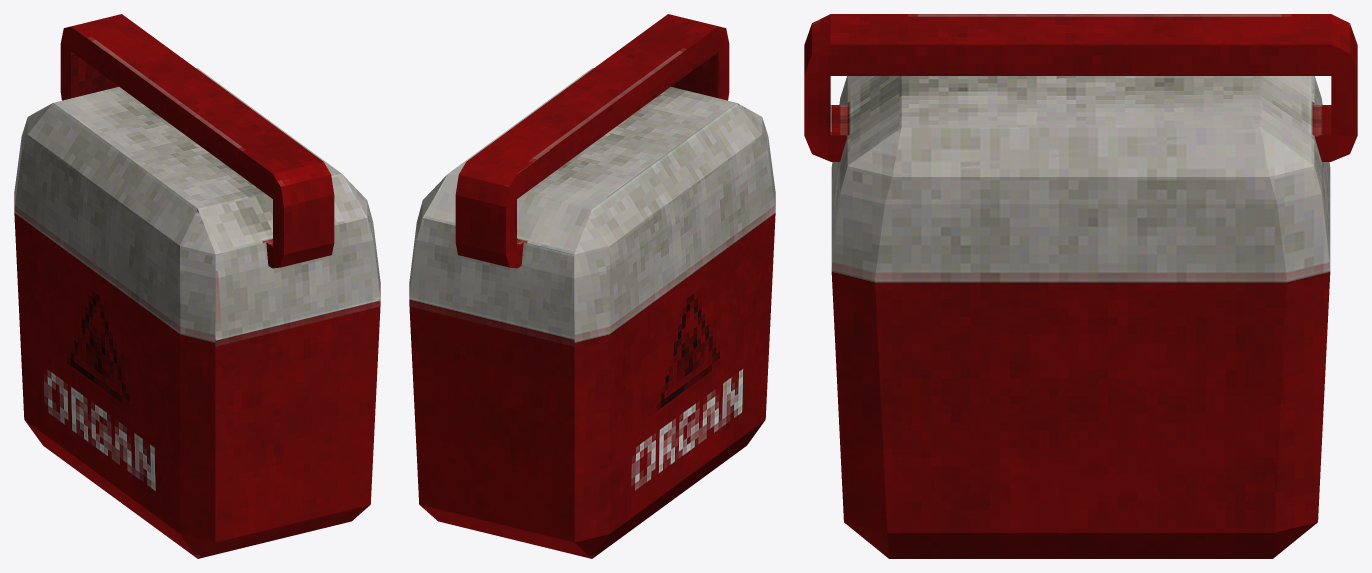
The model's file is SM_OrganBox.fbx.
3 renders of one model, left to right at view 1: azimuth 30°, elevation 25°; view 2: azimuth 150°, elevation 25°; view 3: azimuth 270°, elevation 25°, orthographic. The views are drawn at different scales.
Visible parts, largest first — view 1: SM_OrganBox; view 2: SM_OrganBox; view 3: SM_OrganBox.
Boxes of the visible parts, left/top/right/bottom form: SM_OrganBox: left=14, top=14, right=380, bottom=558; SM_OrganBox: left=409, top=14, right=775, bottom=558; SM_OrganBox: left=804, top=14, right=1357, bottom=558.
Bounding box in the file's own units: 26.51 × 49.27 × 51.17.
